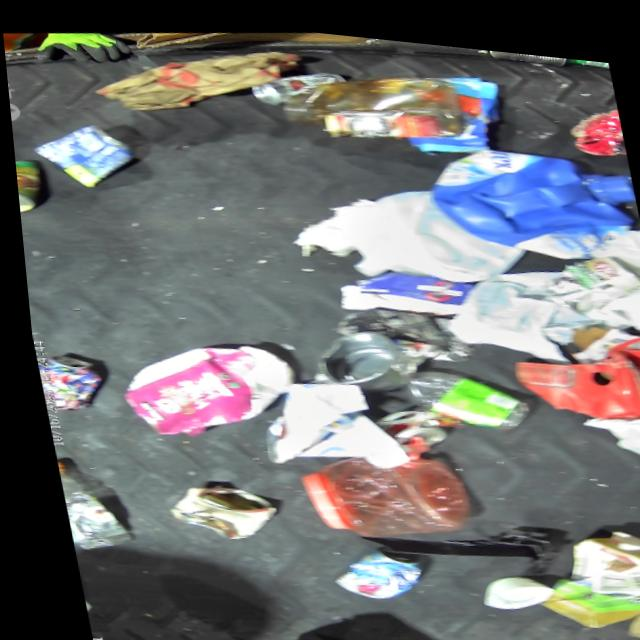can: (23, 111, 139, 195), (302, 311, 420, 392), (152, 468, 276, 545), (529, 233, 640, 310), (313, 527, 419, 599), (243, 54, 353, 108), (28, 346, 104, 415), (362, 394, 440, 445), (12, 156, 44, 216), (484, 40, 570, 60)
non_white_jug: (414, 115, 640, 266), (101, 323, 301, 448)
plastic_bottle: (385, 347, 526, 432), (47, 453, 125, 553)
